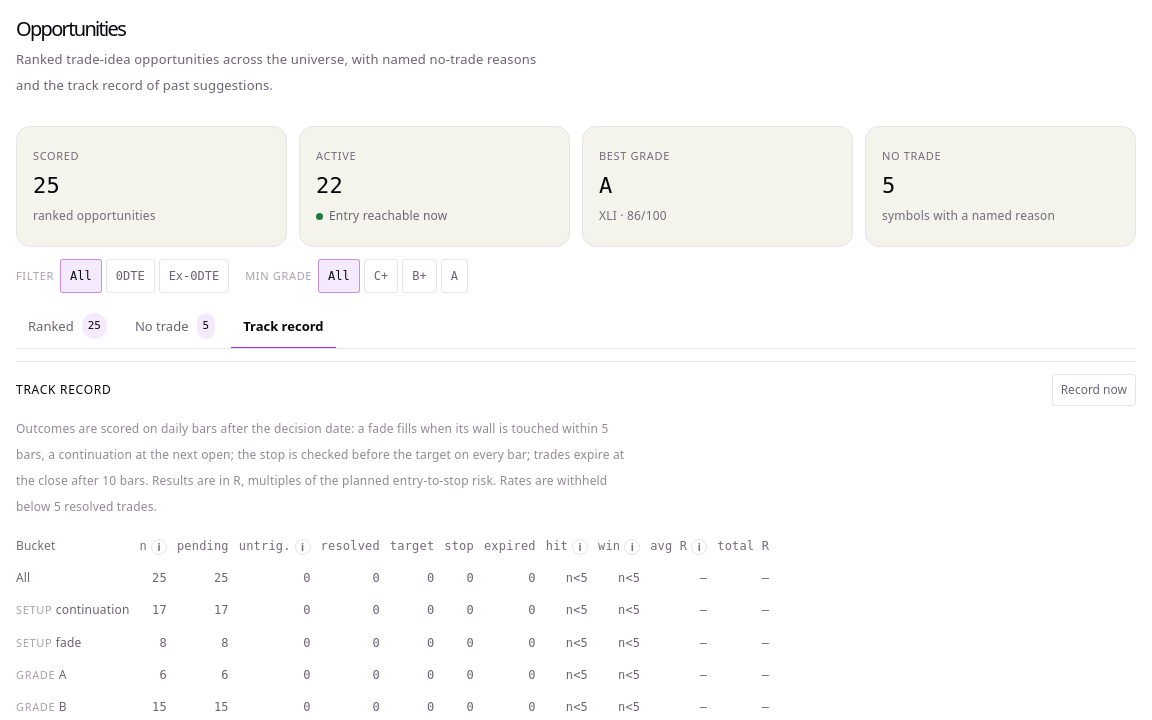
Scenario: Decisions page -- track record › Record now posts, reports the counts, and never a raw body on failure
The width and height of the screenshot is (1152, 720).
Click the button "Record now" at (1094, 390), box [1052,374,1136,406]
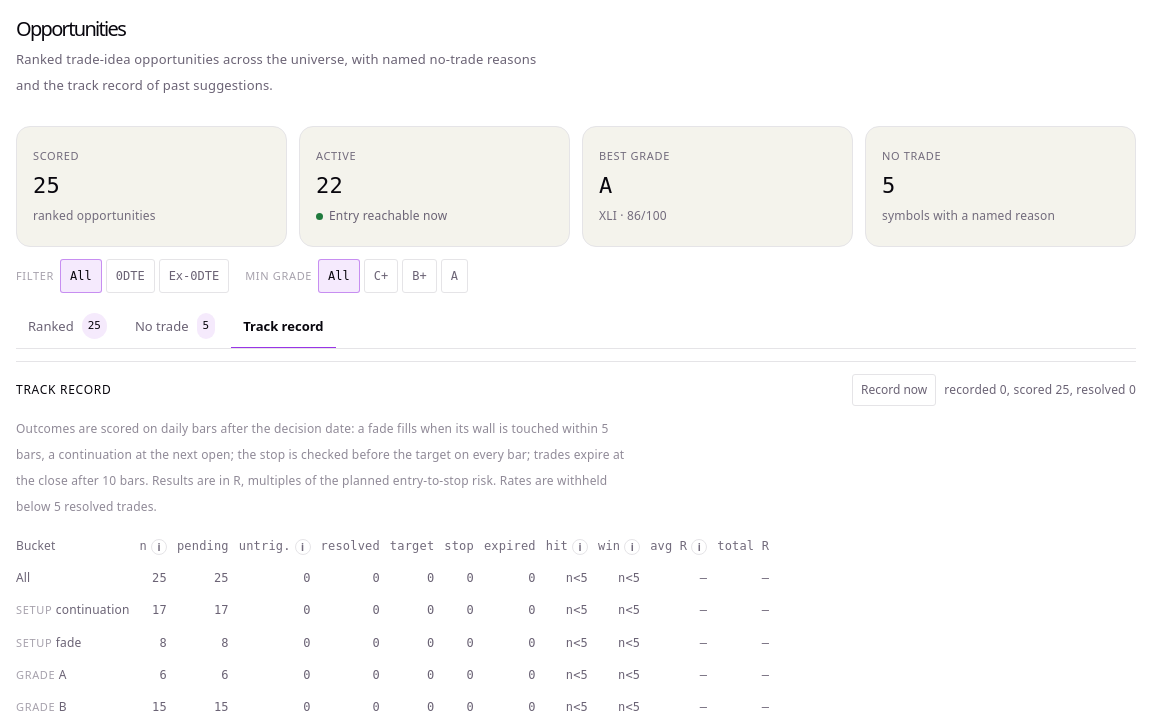
Now the message reads "recorded 0, scored 25, resolved 0", box [944,377,1136,403]
Click the button "Record now" at (894, 390), box [852,374,936,406]
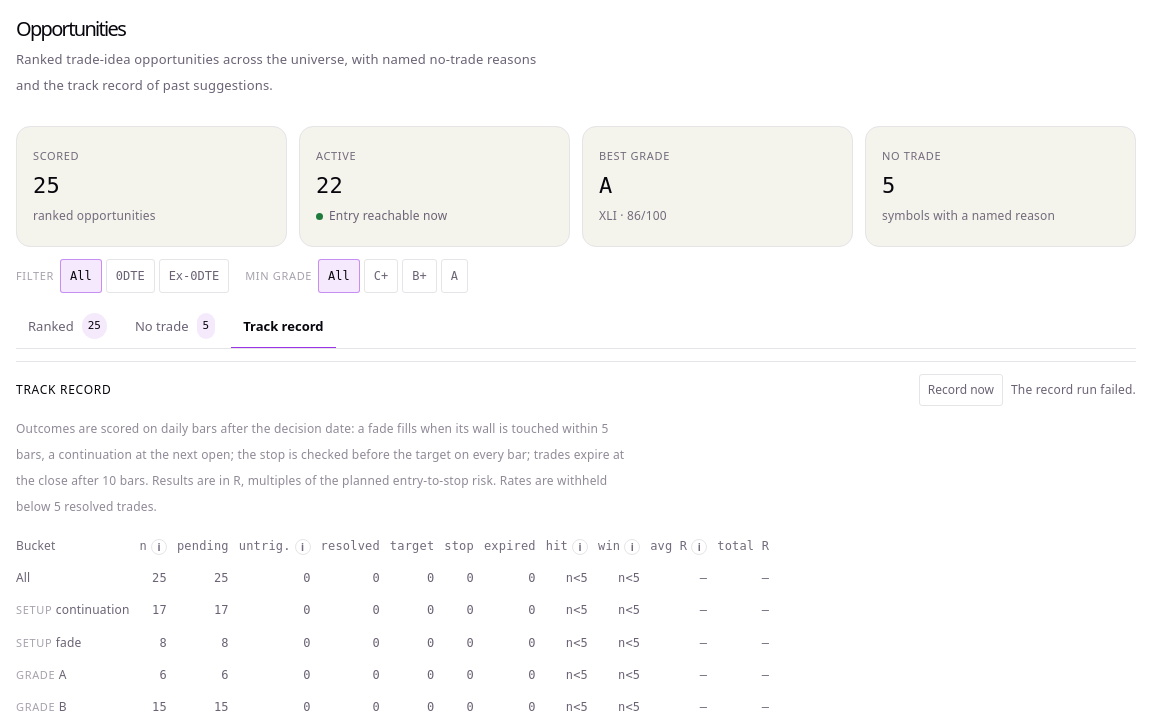
Now the message reads "The record run failed.", box [1011,381,1136,398]
